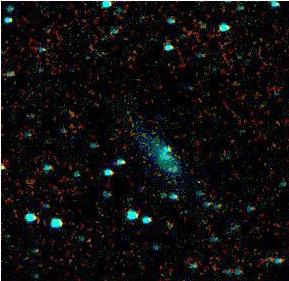star: (160, 156, 190, 186)
